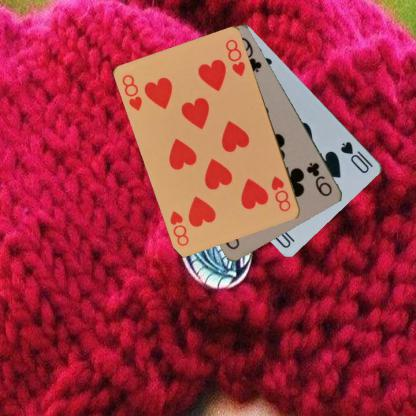10s: (338, 138, 374, 174)
8h: (119, 72, 144, 112), (269, 174, 292, 214)
9c: (304, 160, 334, 198)
